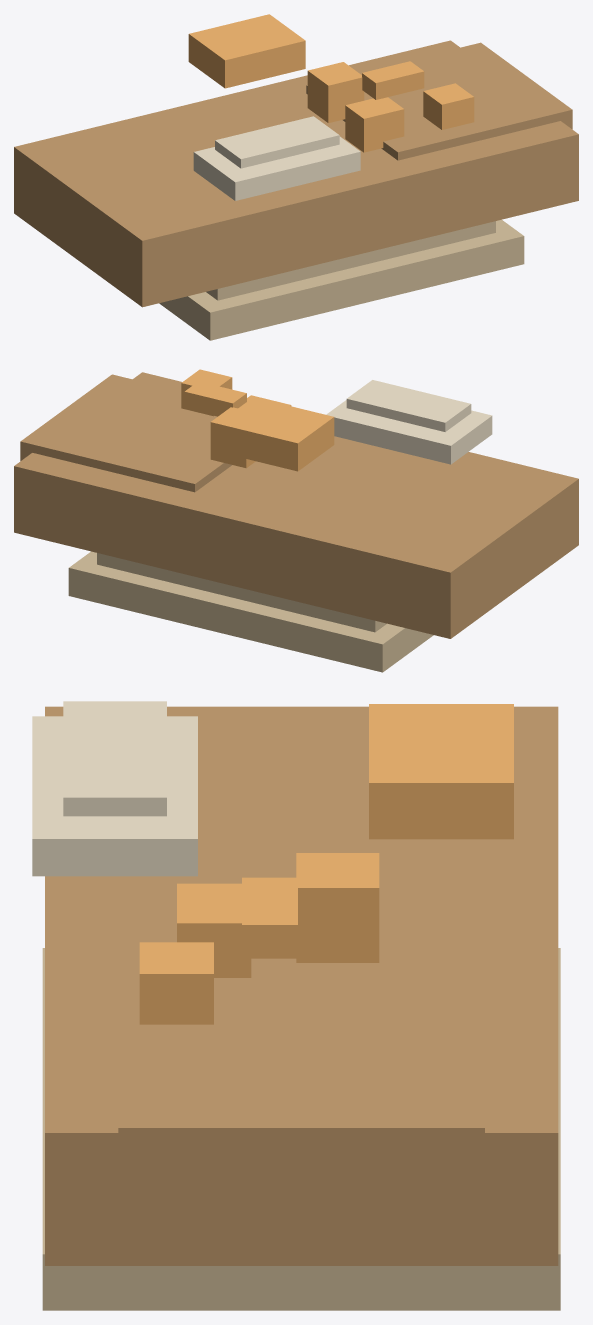
The model's file is product_pressed_fillet.glb.
The picture shows the model from 3 angles, top to bottom: view 1: azimuth 30°, elevation 25°; view 2: azimuth 150°, elevation 25°; view 3: azimuth 270°, elevation 25°; orthographic projection. The views are drawn at different scales.
Parts seen in each view (by area): view 1: ProductArt_body, ProductArt_platter, ProductArt_label, ProductArt_accent, ProductArt_garnish; view 2: ProductArt_body, ProductArt_platter, ProductArt_label, ProductArt_accent, ProductArt_garnish; view 3: ProductArt_body, ProductArt_accent, ProductArt_label, ProductArt_platter, ProductArt_garnish.
Part boxes in pixels (left/top/right/bottom): ProductArt_body: left=14, top=40, right=578, bottom=307; ProductArt_platter: left=159, top=219, right=524, bottom=340; ProductArt_label: left=193, top=116, right=360, bottom=200; ProductArt_accent: left=188, top=14, right=364, bottom=123; ProductArt_garnish: left=345, top=61, right=474, bottom=152; ProductArt_body: left=14, top=372, right=578, bottom=638; ProductArt_platter: left=68, top=551, right=433, bottom=672; ProductArt_label: left=326, top=380, right=492, bottom=464; ProductArt_accent: left=210, top=397, right=334, bottom=471; ProductArt_garnish: left=181, top=369, right=291, bottom=416; ProductArt_body: left=45, top=706, right=558, bottom=1265; ProductArt_accent: left=296, top=704, right=513, bottom=962; ProductArt_label: left=32, top=701, right=197, bottom=876; ProductArt_platter: left=42, top=948, right=560, bottom=1310; ProductArt_garnish: left=139, top=877, right=297, bottom=1024.
Size of the model in its own units: 0.24 by 0.1008 by 0.1224.
